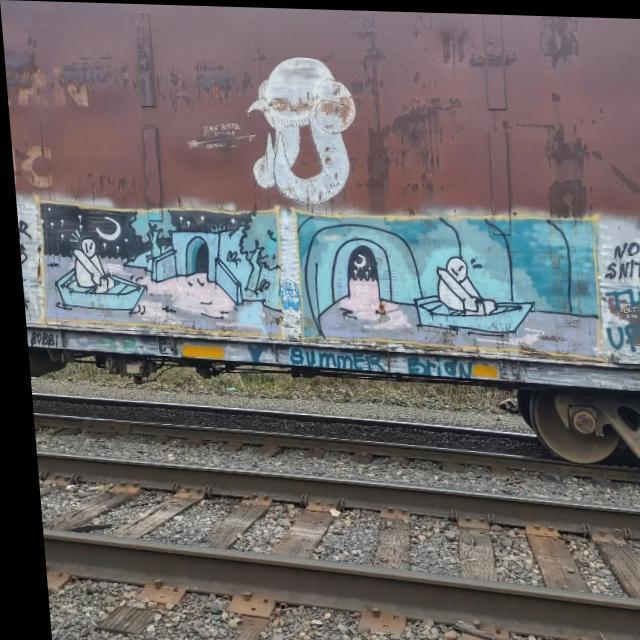-: (35, 202, 602, 360), (166, 3, 381, 212), (596, 224, 640, 376), (13, 201, 42, 343)
